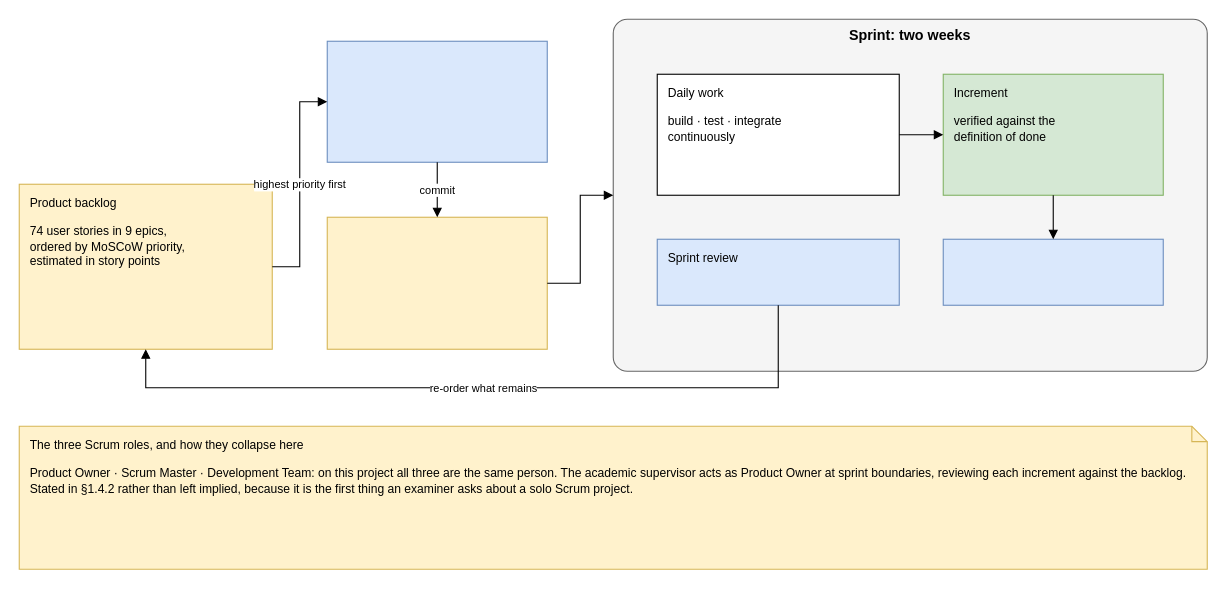
The diagram is 1227 pixels wide and 589 high, and some of its shapes have lost their labels. Here are the shapes that lost their labels. From the top down, the centre of each, then its label:
the point at 436,101: Sprint planning pull the next slice, set the sprint goal
the point at 436,282: Sprint backlog the stories committed for this sprint
the point at 1052,271: Retrospective
